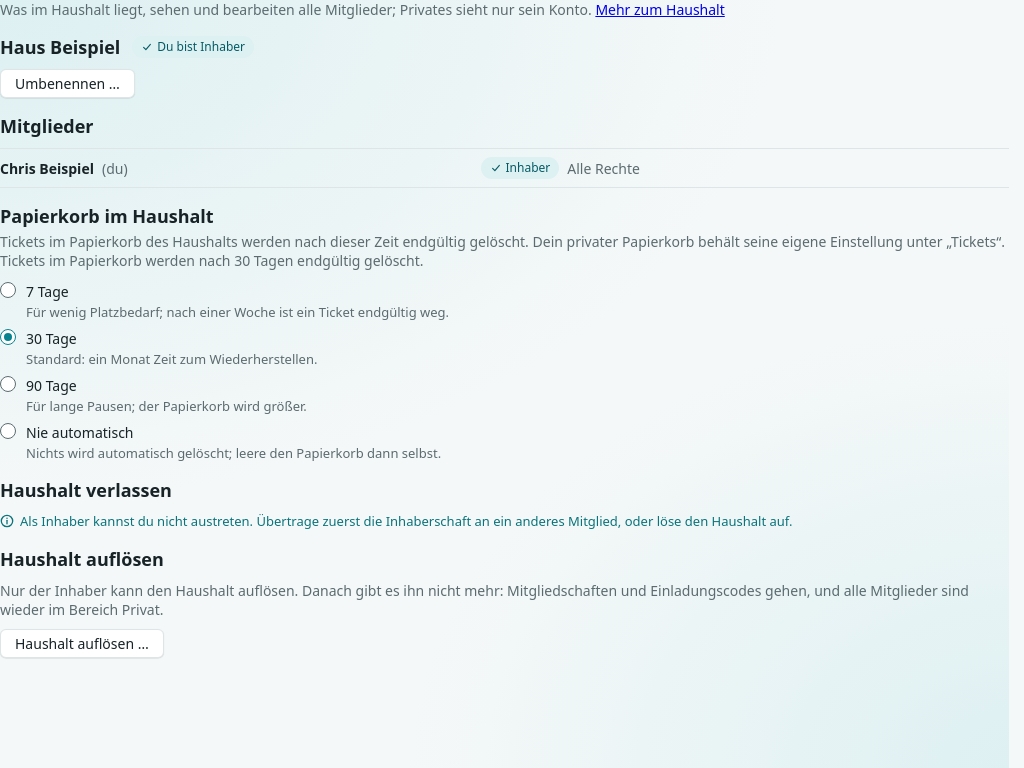
Test: "Haushalt auflösen" on the page (ADR-0061 §5) › takes everything into the private area, and the household is gone
Click the button "Haushalt auflösen …" at (82, 643), box [0,629,164,658]
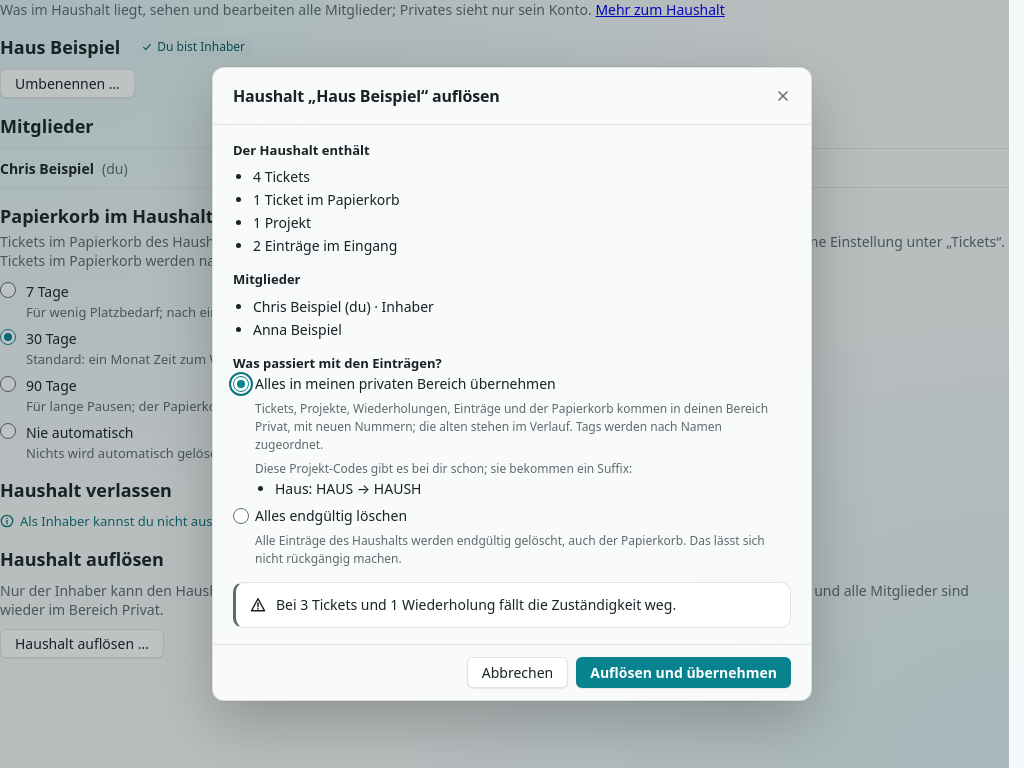
Click the button "Auflösen und übernehmen" at (684, 673), box [576,657,791,688]
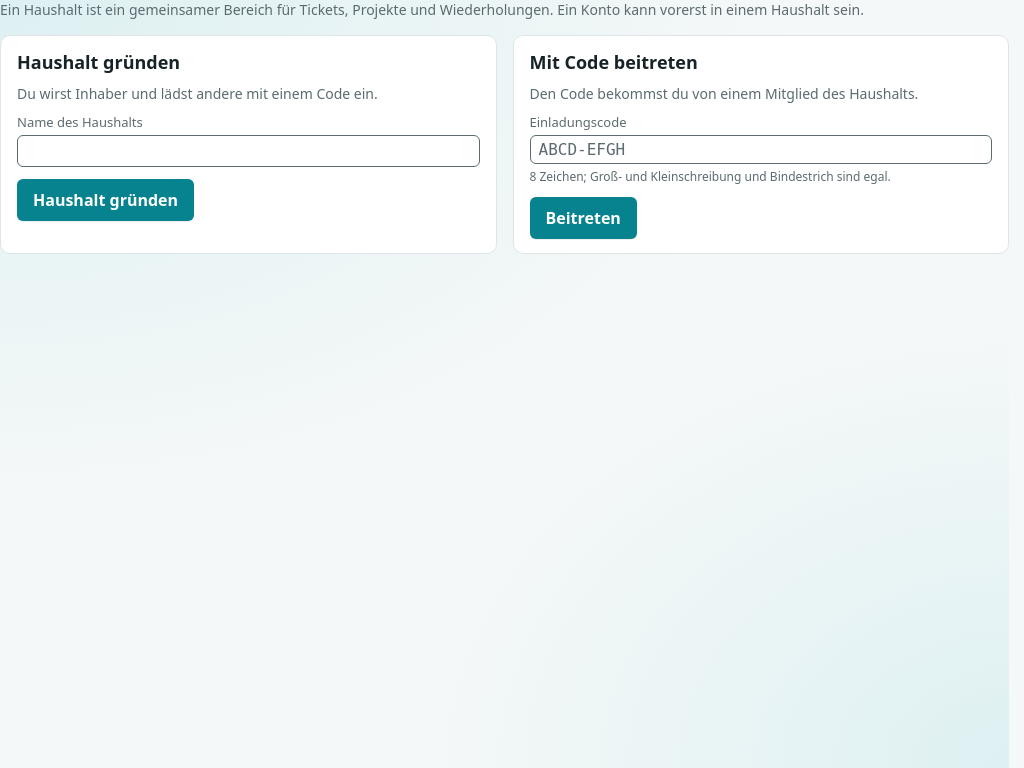
Check: the dialog is gone
